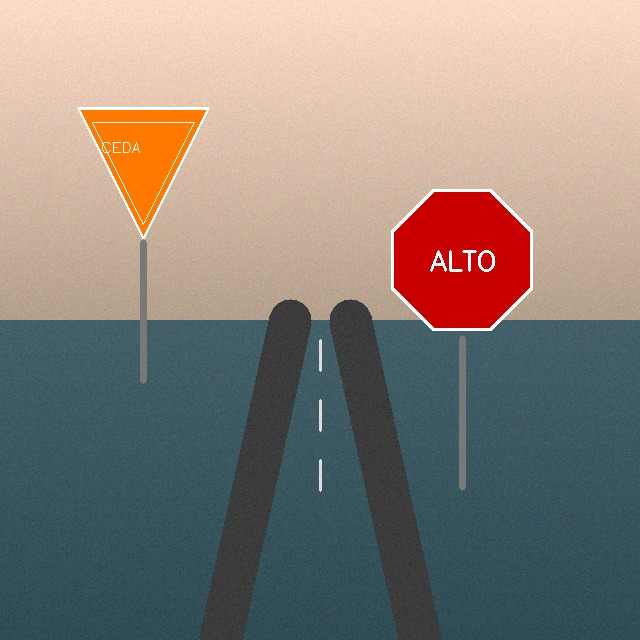alto: (385, 183, 540, 338)
ceda_el_paso: (74, 104, 212, 242)
